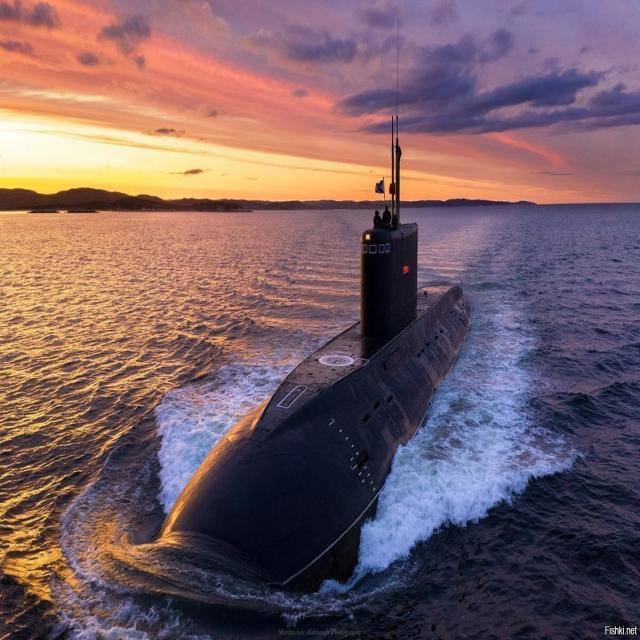submarine: (153, 9, 476, 597)
